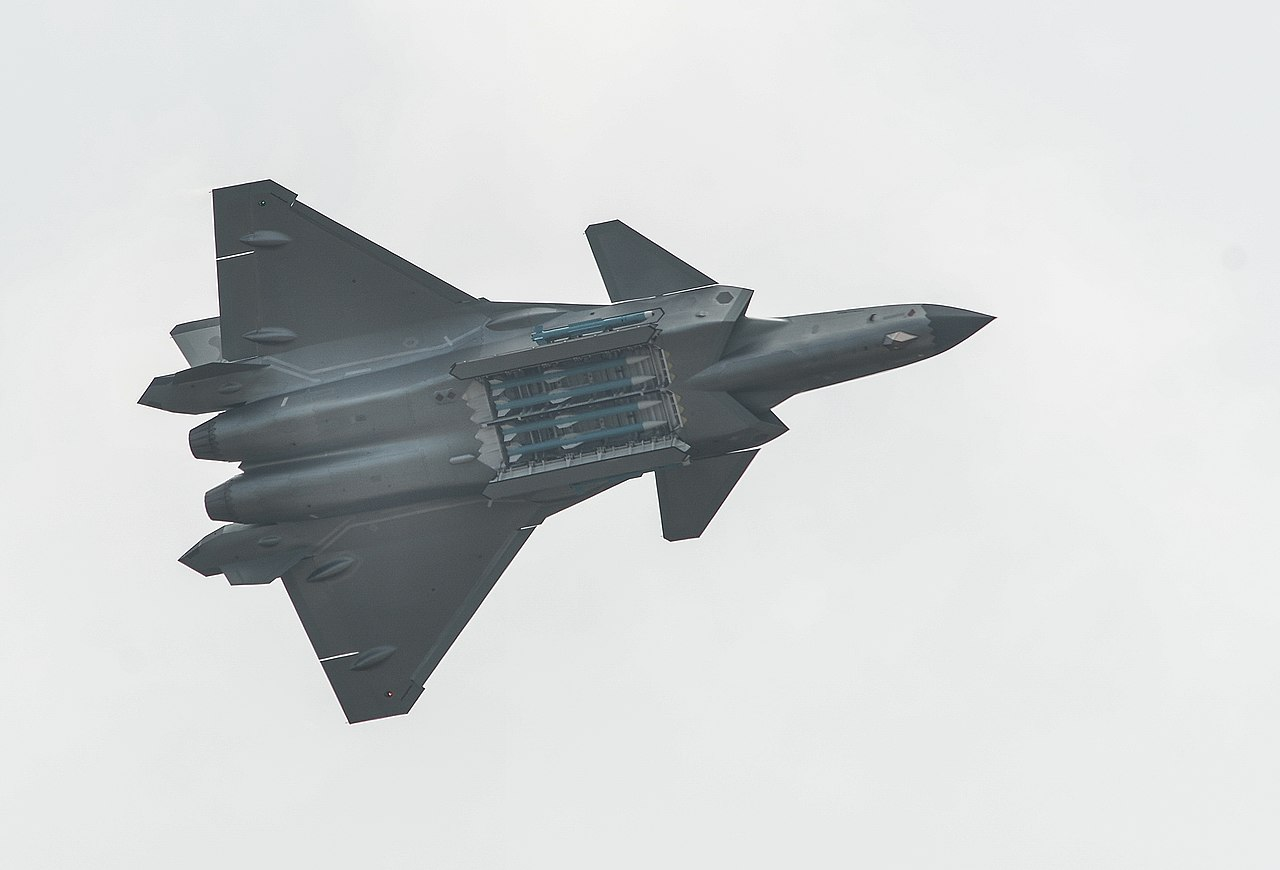J20: (136, 177, 998, 725)
